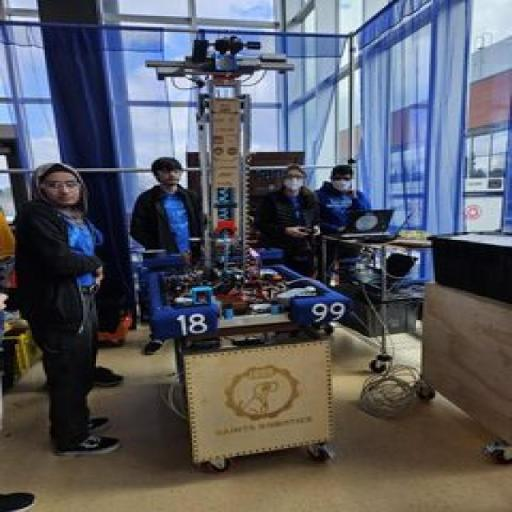robot: (139, 30, 353, 335)
